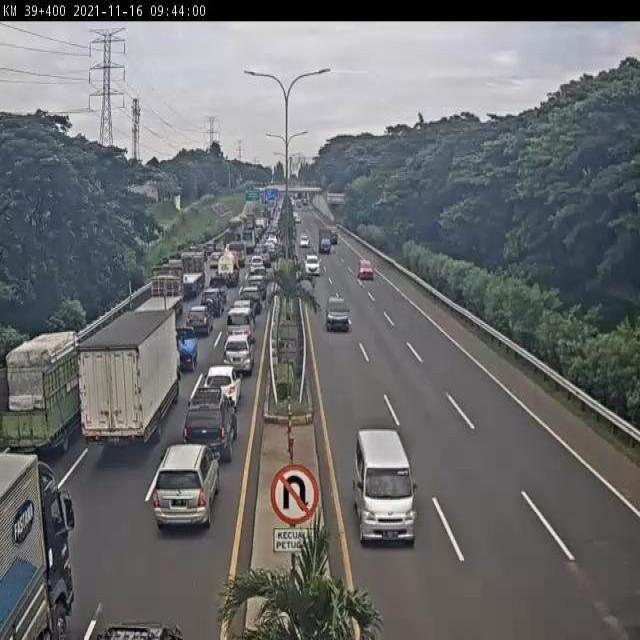car: (354, 432, 422, 549), (153, 441, 221, 539), (183, 388, 239, 464), (166, 327, 200, 372), (222, 330, 256, 374), (205, 362, 241, 402), (227, 308, 258, 343), (326, 294, 350, 334), (188, 304, 216, 336), (358, 253, 376, 280), (306, 251, 321, 281)
truck-m-: (76, 311, 182, 453), (0, 331, 94, 453)
